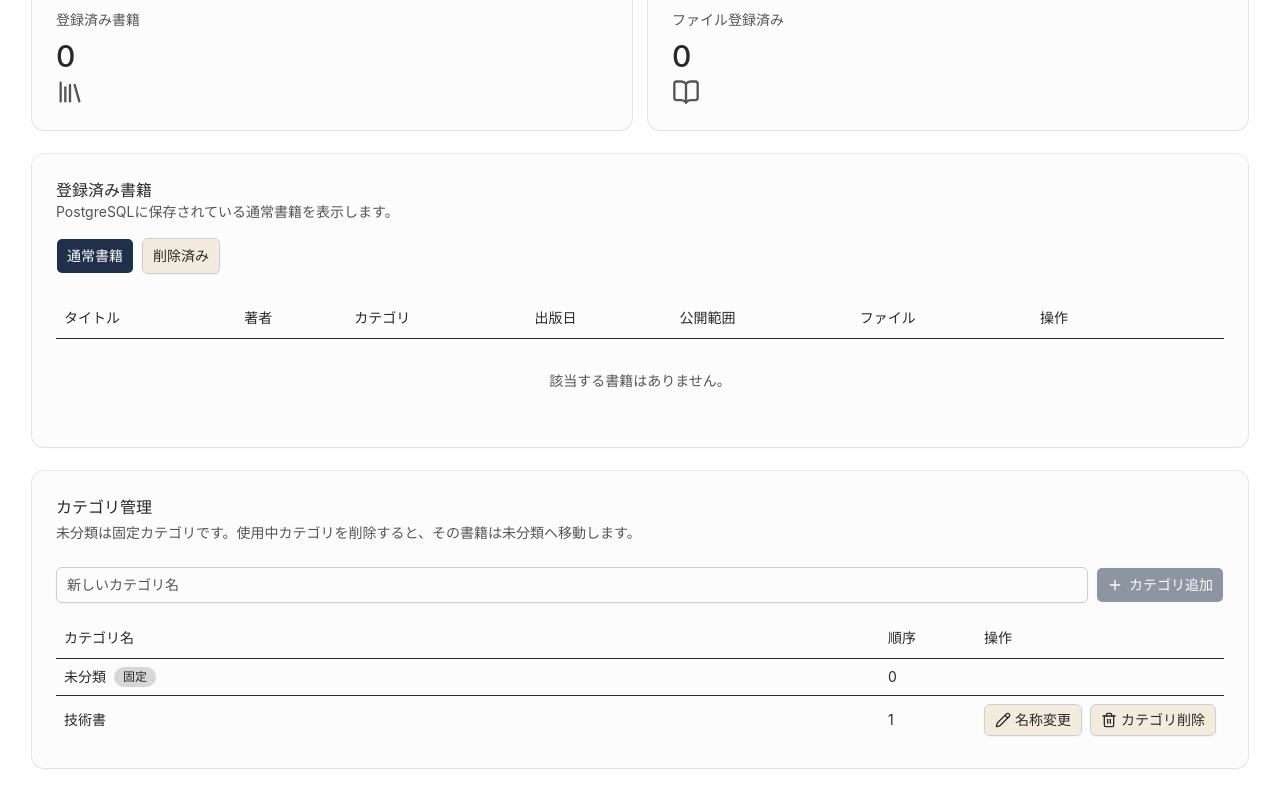
Admin persisted book management › 通常カテゴリを名称変更できる
(page scrolled)
Click the button "名称変更" at x=1033, y=720, box x1=984 y1=704 x2=1082 y2=736
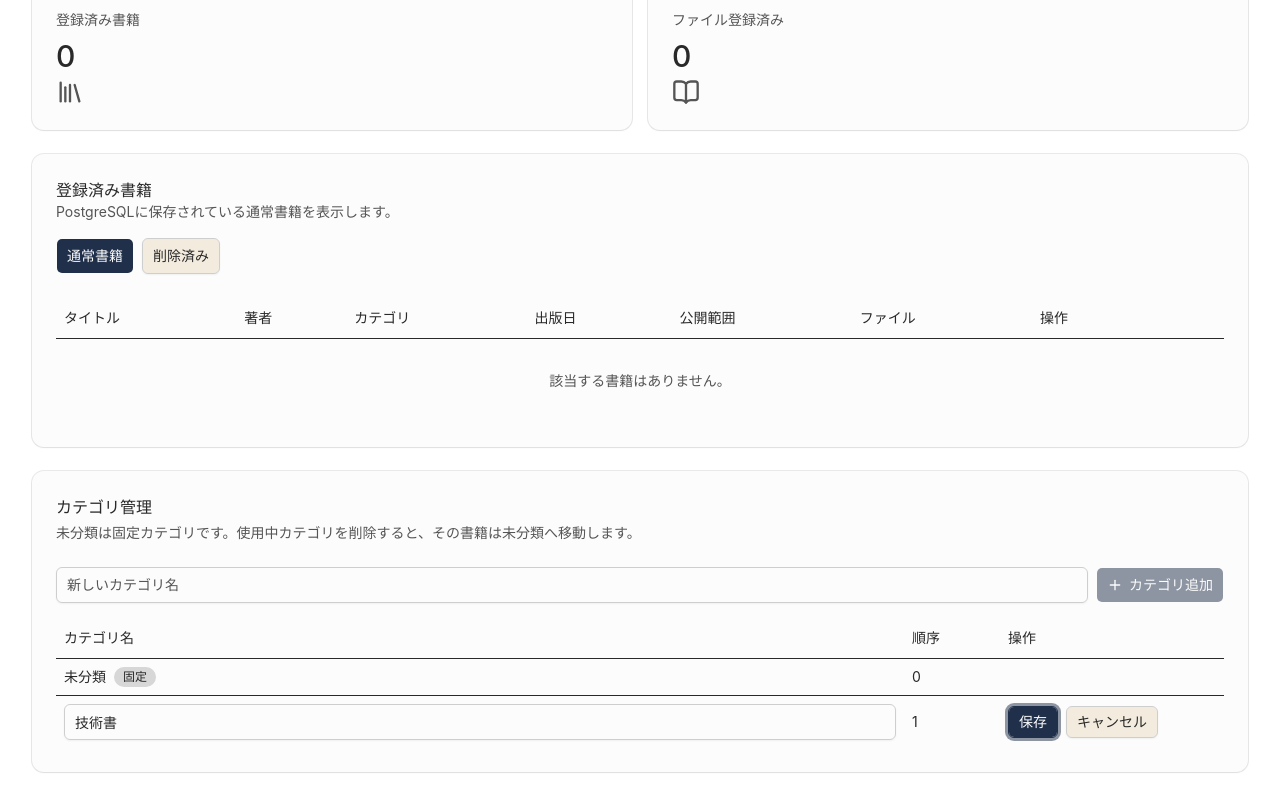
Replace the text in the field named "技術書 の新しいカテゴリ名" with "開発" at x=480, y=722, box x1=64 y1=704 x2=896 y2=740
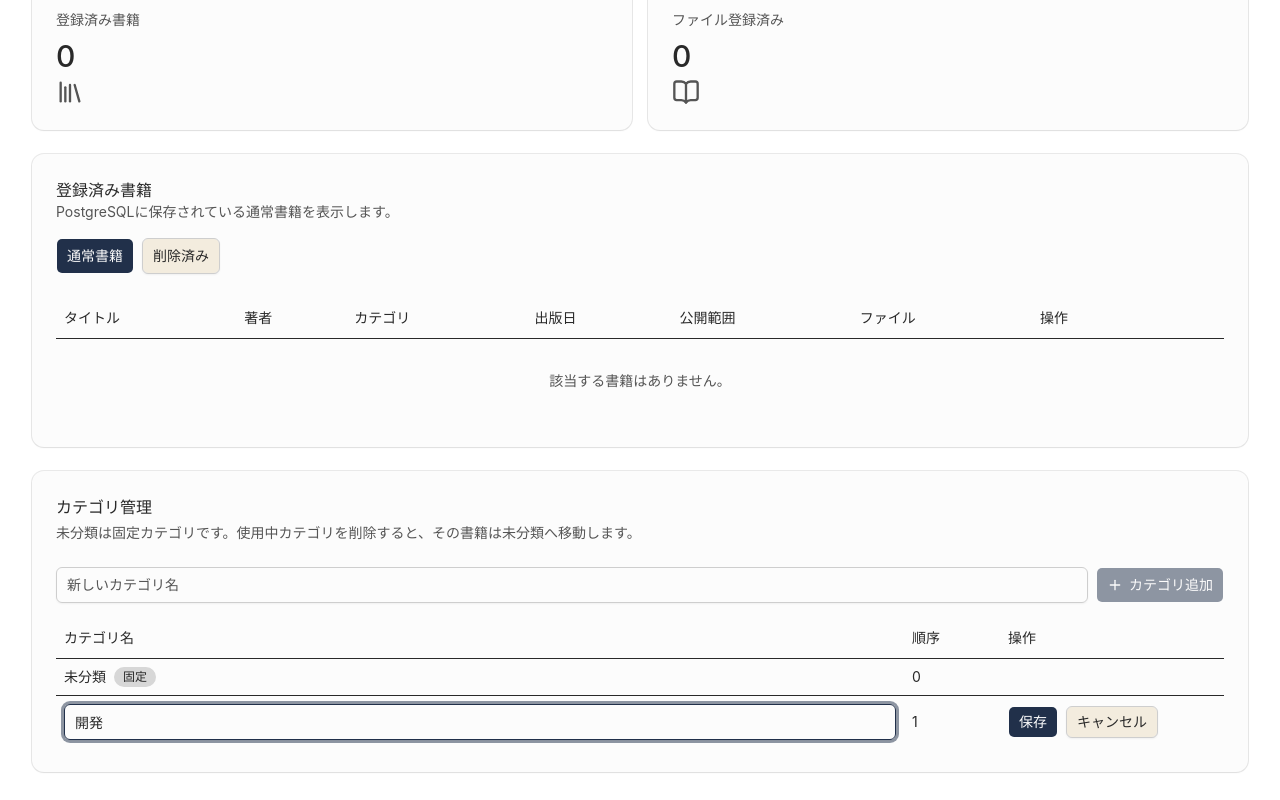
Click the button "保存" at x=1033, y=722, box x1=1008 y1=706 x2=1058 y2=738
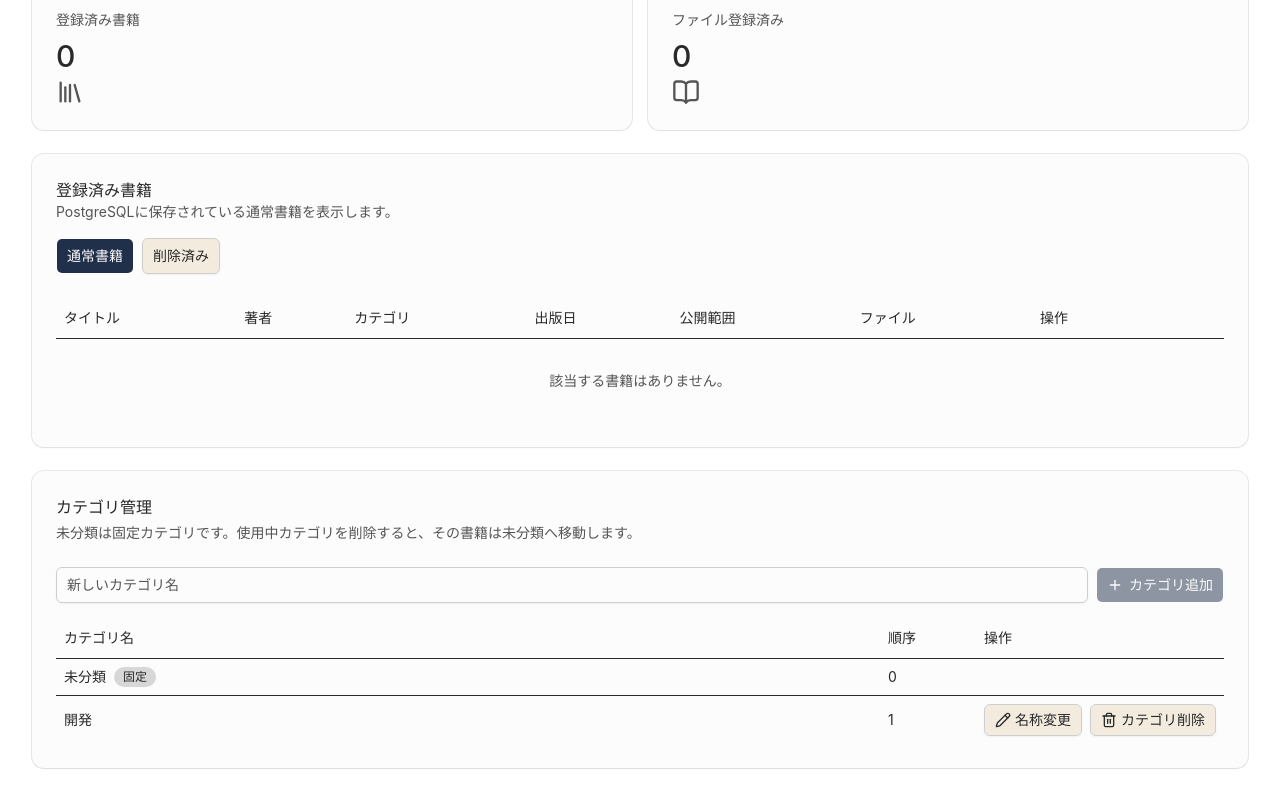
Now the text "開発" is shown, box x1=64 y1=710 x2=92 y2=730
